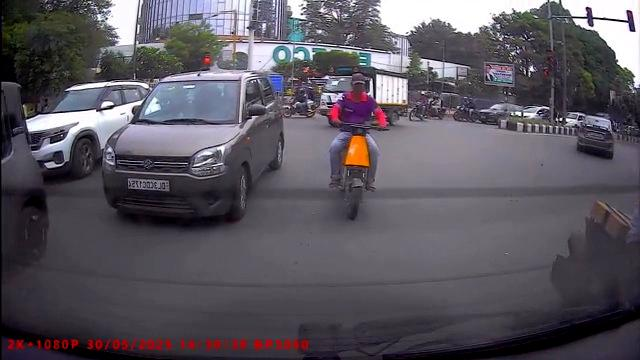motorcycle_without_helmet: (327, 73, 389, 221)
